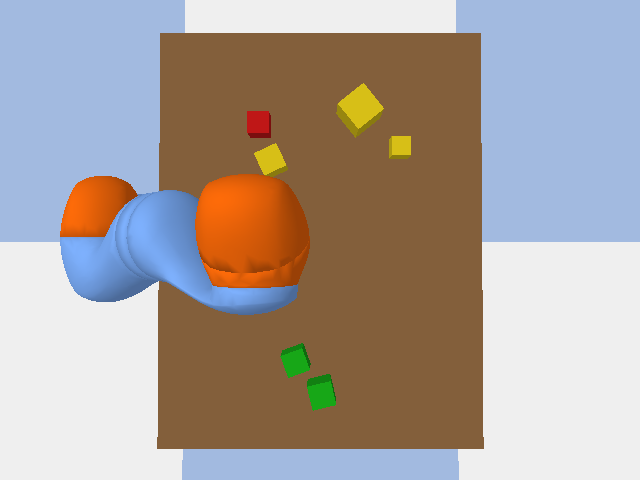green_obj: (280, 343, 310, 377), (307, 374, 335, 410)
red_obj: (247, 111, 270, 137)
yellow_obj: (336, 83, 383, 137), (254, 143, 287, 176), (389, 136, 410, 158)
